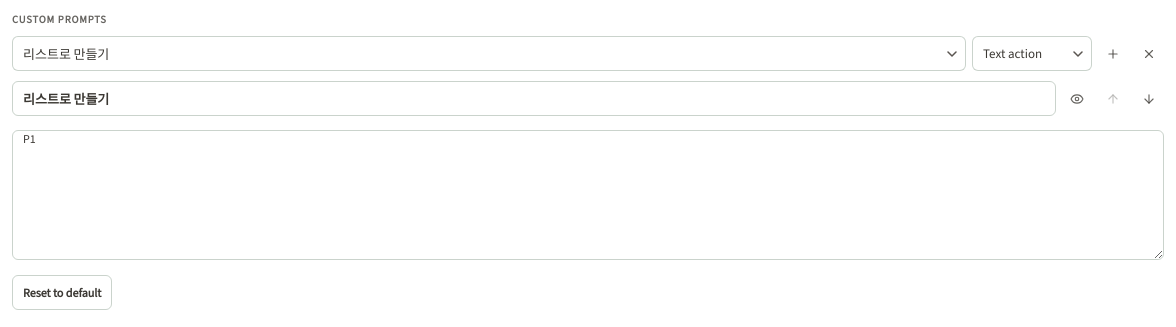
Test: AiActionEditor — single-column preset editor (프리셋 관리 모달의 AI 액션 탭) › per-item reset restores the selected built-in's name+prompt and refreshes the fields
The image size is (1176, 327).
Click the button with test id "ai-action-select" at (66, 54), box [12,36,966,71]
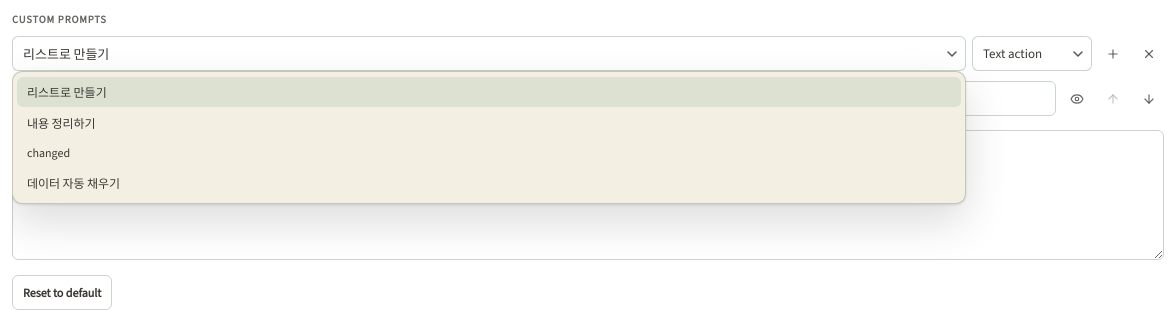
Click the option "changed" at (49, 153), box [27,145,70,161]
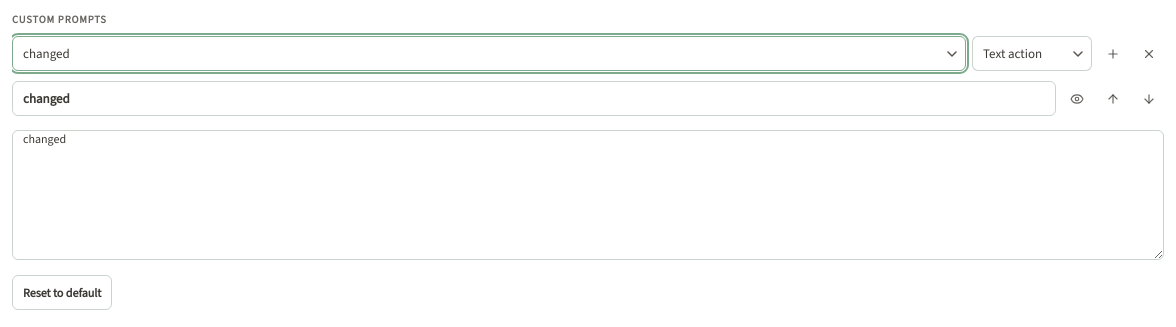
Click the button "Reset to default" at (62, 292), box [12,275,112,310]
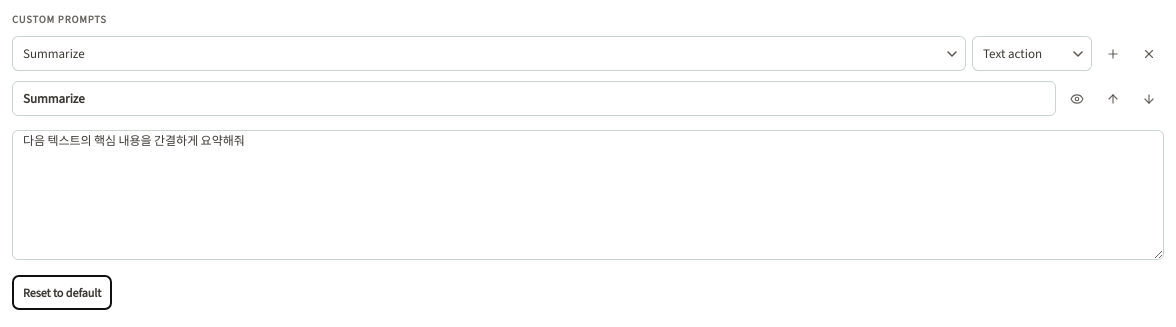
Expected: the button with test id "ai-action-select" no longer shows "changed"
Expected: the text "changed" is gone
Expected: the field named "Prompt name" holds "Summarize", [12,81,1056,116]
